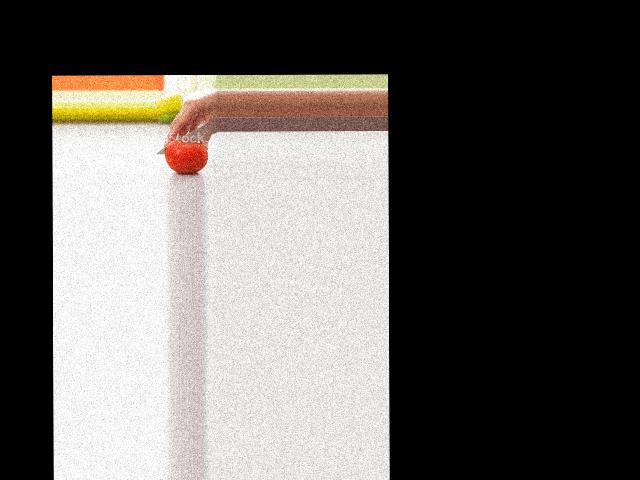tomato: (164, 140, 208, 174)
